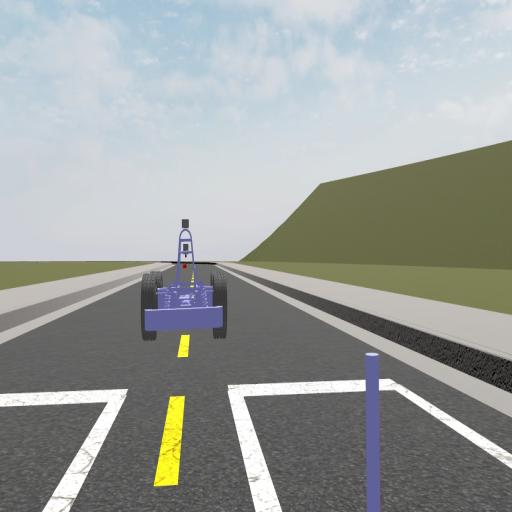ERP-42: (140, 218, 228, 342)
